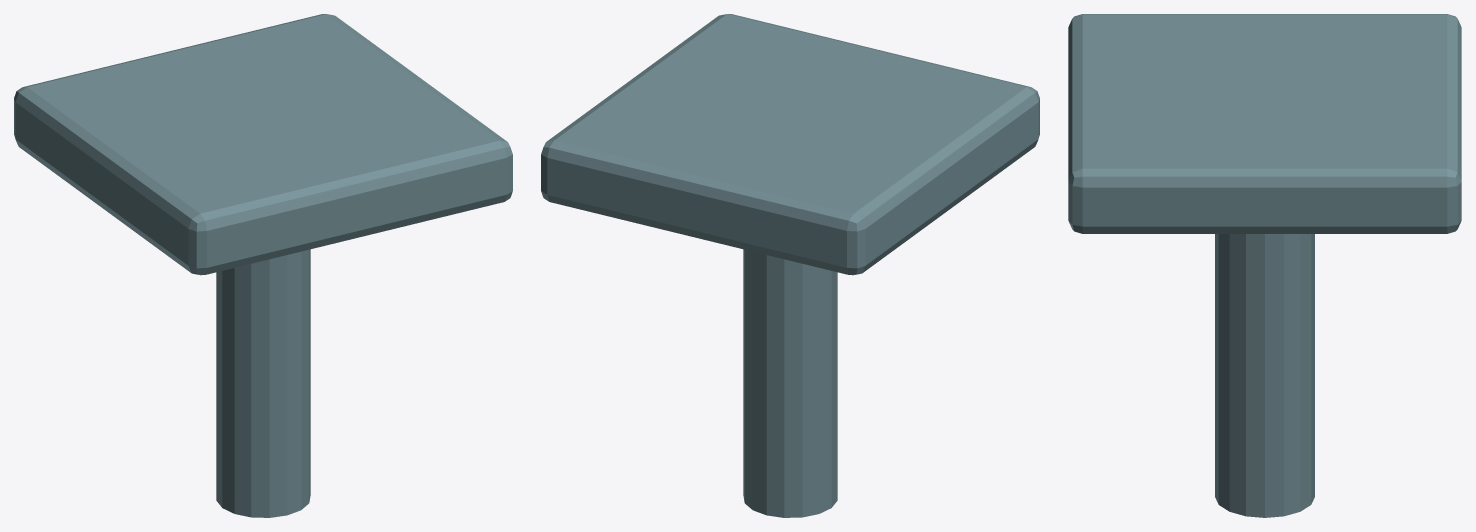
File: surveillance_mount.glb
The picture shows the model from 3 angles, left to right: view 1: azimuth 30°, elevation 25°; view 2: azimuth 150°, elevation 25°; view 3: azimuth 270°, elevation 25°; orthographic projection. The views are drawn at different scales.
Parts seen in each view (by area): view 1: Ceiling camera mounting plate, Ceiling camera stalk; view 2: Ceiling camera mounting plate, Ceiling camera stalk; view 3: Ceiling camera mounting plate, Ceiling camera stalk.
Boxes of the visible parts, x1,y1,x2,y2 form: Ceiling camera mounting plate: (14,14,512,275); Ceiling camera stalk: (216,249,310,517); Ceiling camera mounting plate: (541,14,1039,275); Ceiling camera stalk: (743,249,837,517); Ceiling camera mounting plate: (1068,14,1461,233); Ceiling camera stalk: (1215,234,1314,517).
Bounding box in the file's own units: 0.22 × 0.25 × 0.22.
